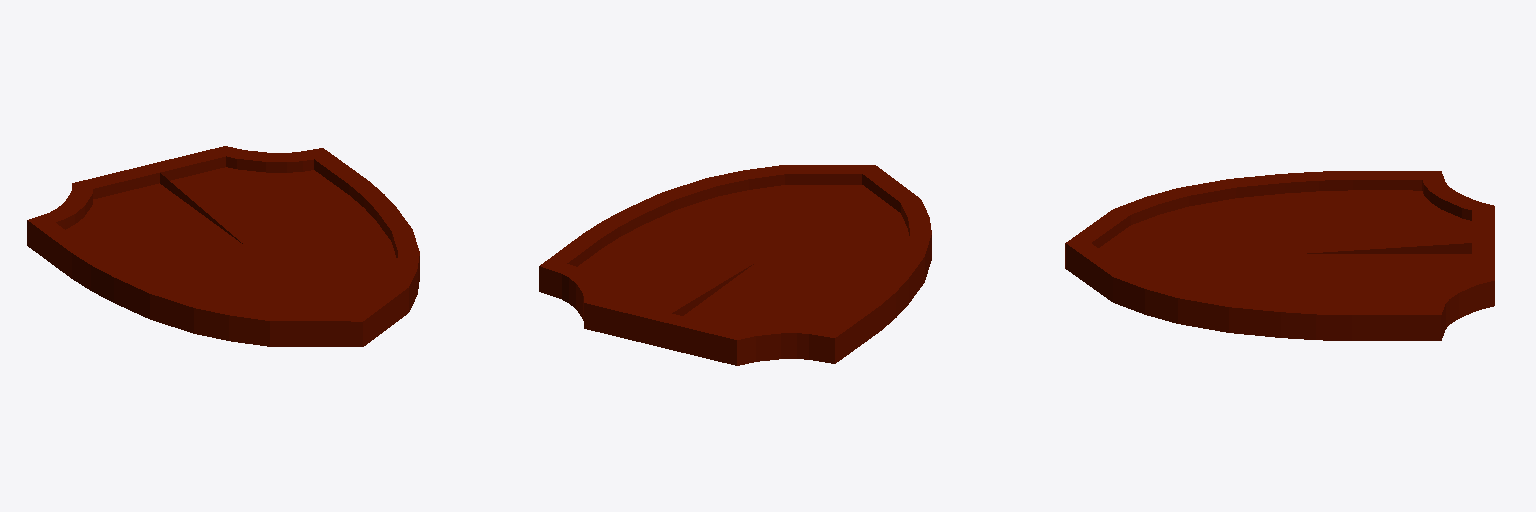
The model's file is escudo.obj.
The picture shows the model from 3 angles: view 1: azimuth 30°, elevation 25°; view 2: azimuth 150°, elevation 25°; view 3: azimuth 270°, elevation 25°; orthographic projection.
Visible parts, largest first — view 1: Cube.003; view 2: Cube.003; view 3: Cube.003.
Part boxes in pixels (left/top/right/bottom): Cube.003: left=27, top=146, right=419, bottom=346; Cube.003: left=539, top=165, right=931, bottom=365; Cube.003: left=1065, top=171, right=1494, bottom=340.
Size of the model in its own units: 2.4 by 0.2 by 3.01.